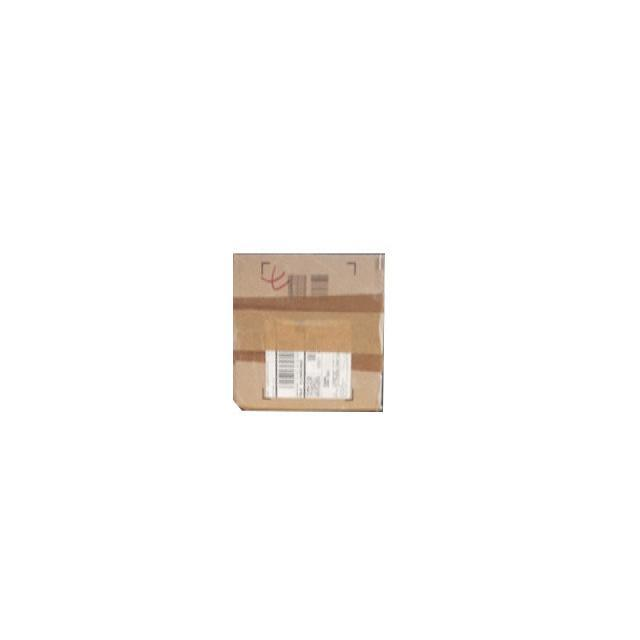Cardboard: (231, 250, 386, 413)
